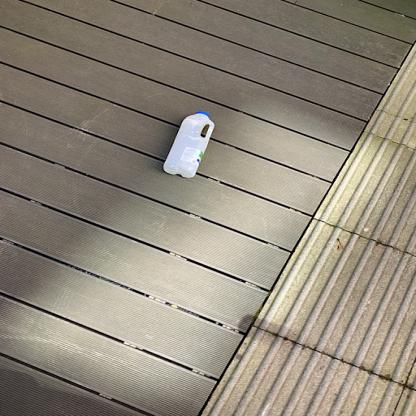trash: (162, 109, 218, 181)
